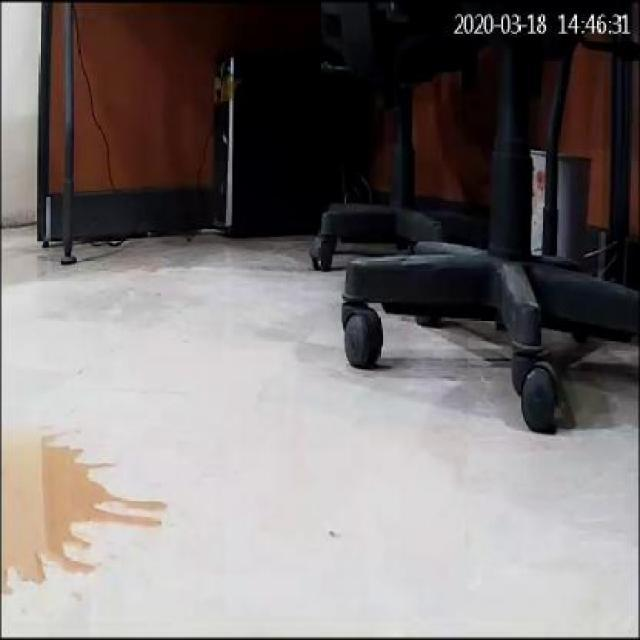spill: (0, 406, 169, 608)
